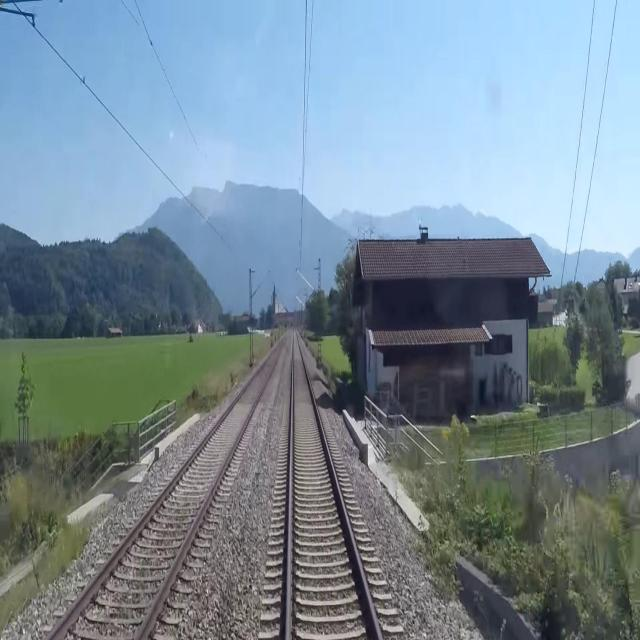rail-track: (51, 343, 281, 639), (290, 334, 377, 639)
